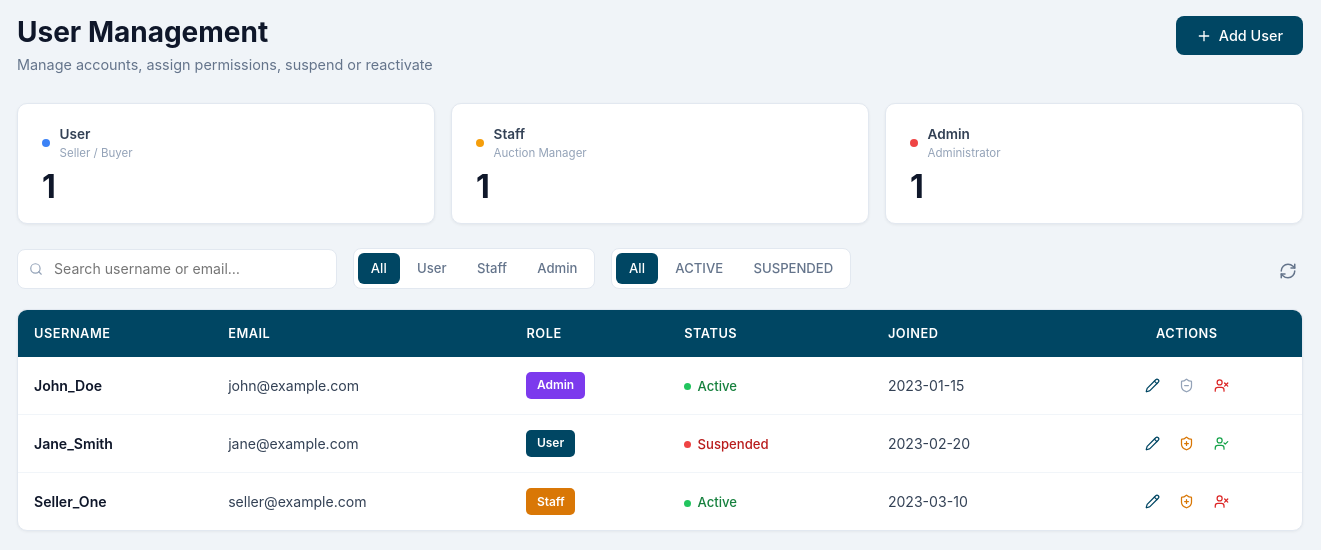
Test: UserManagement Component › filters users by status
This screenshot has width=1321, height=550.
Check: the text "John_Doe" is shown, box [34,377,102,394]
What coordinates should you click on to do the following:
click the button "SUSPENDED"
I would click on:
 (793, 269)
Its box is [741,254,846,284].
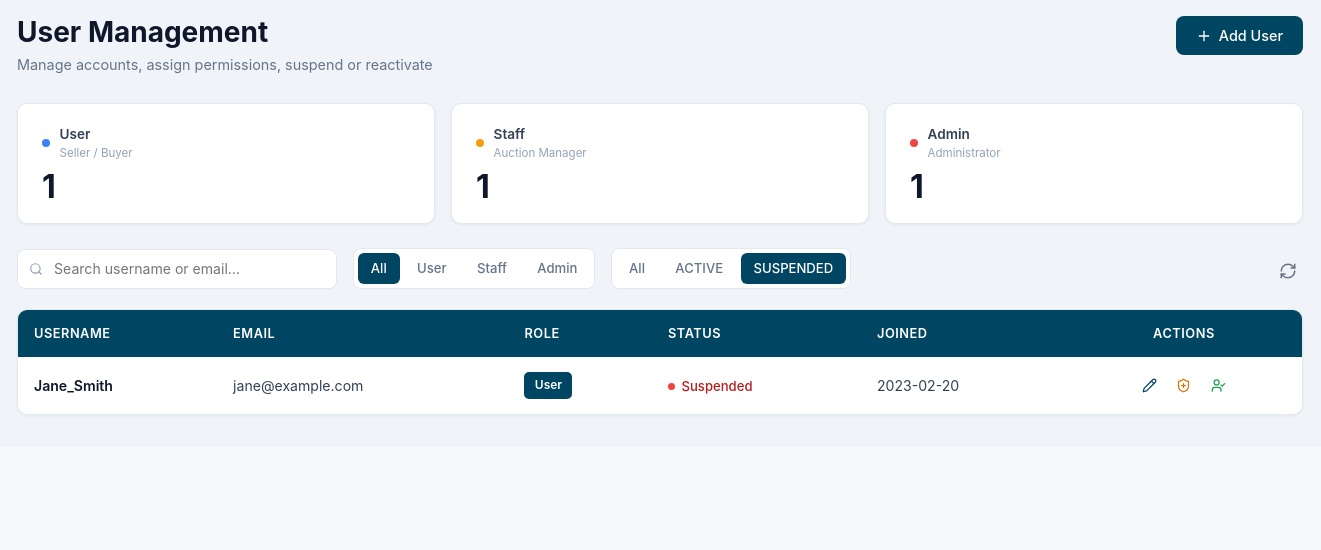
Check: the text "Jane_Smith" is shown, box [34,377,113,394]
Check: the text "John_Doe" is gone
